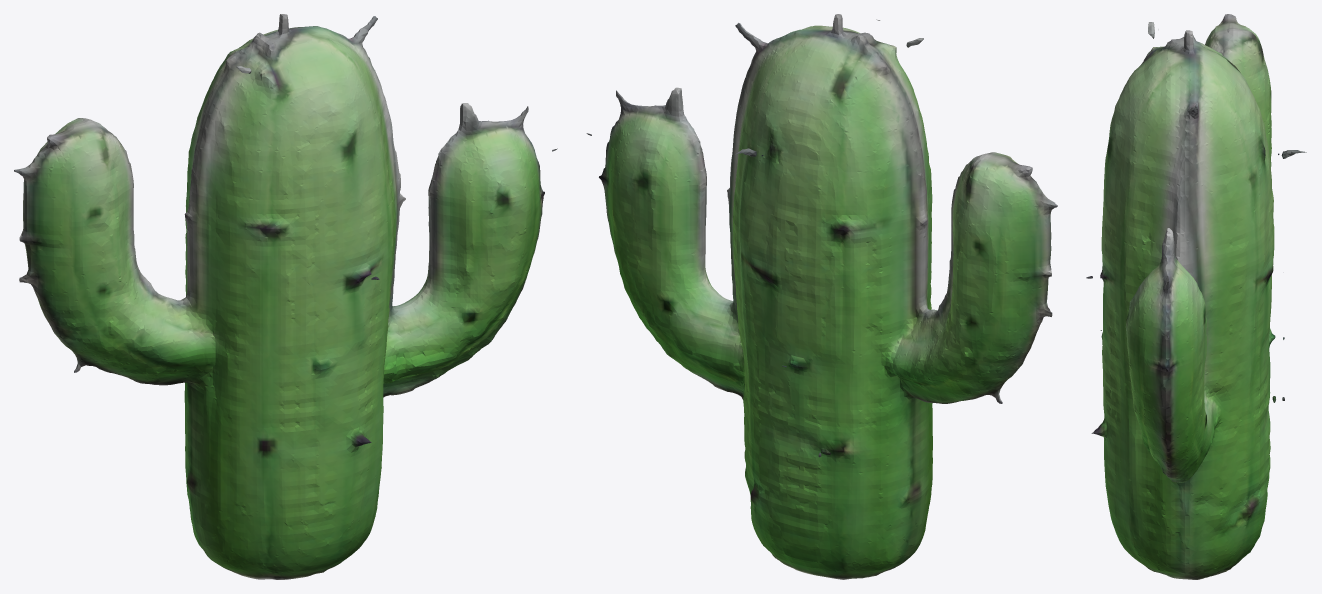
3 views of the same model, side by side, from view 1: azimuth 30°, elevation 25°; view 2: azimuth 150°, elevation 25°; view 3: azimuth 270°, elevation 25° (orthographic). The views are drawn at different scales.
Visible parts, largest first — view 1: world; view 2: world; view 3: world.
Boxes of the visible parts, bbox=[...] form: world: bbox=[14, 14, 557, 579]; world: bbox=[586, 14, 1057, 579]; world: bbox=[1086, 14, 1306, 579].
Bounding box in the file's own units: 1.92 × 1.97 × 0.7564.
